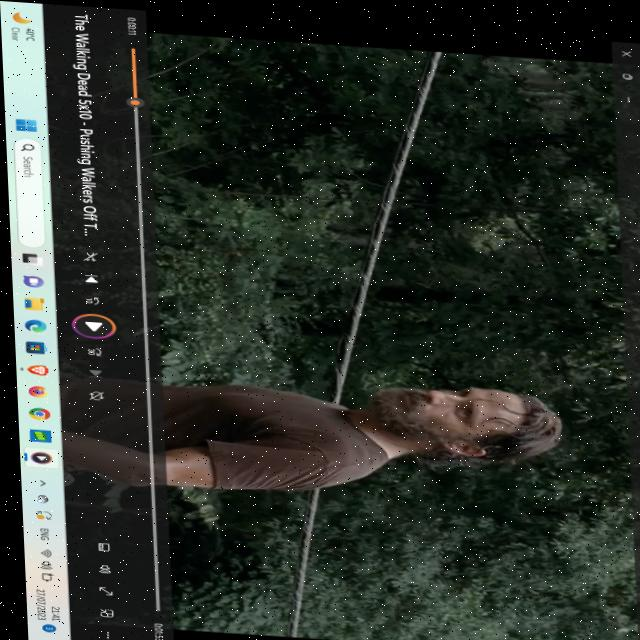human: (367, 370, 552, 452)
